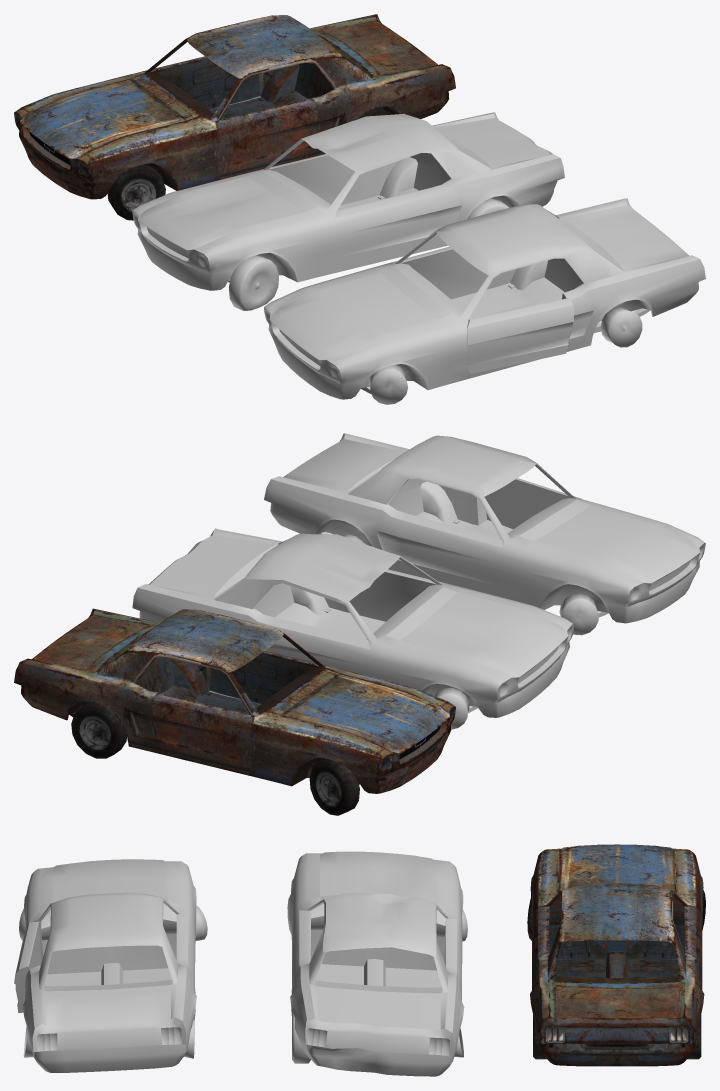
File: mustang_rusted_pack.fbx
The picture shows the model from 3 angles, top to bottom: view 1: azimuth 30°, elevation 25°; view 2: azimuth 150°, elevation 25°; view 3: azimuth 270°, elevation 25°; orthographic projection.
Parts seen in each view (by area): view 1: DP_JNK_DeadStang_3, DP_JNK_DeadStang_Blue, DP_JNK_DeadStang_Red; view 2: DP_JNK_DeadStang_Blue, DP_JNK_DeadStang_3, DP_JNK_DeadStang_Red; view 3: DP_JNK_DeadStang_Blue, DP_JNK_DeadStang_Red, DP_JNK_DeadStang_3.
Part boxes in pixels (left/top/right/bottom): DP_JNK_DeadStang_3: left=264, top=198, right=705, bottom=404; DP_JNK_DeadStang_Blue: left=14, top=14, right=455, bottom=220; DP_JNK_DeadStang_Red: left=132, top=112, right=564, bottom=310; DP_JNK_DeadStang_Blue: left=14, top=608, right=455, bottom=815; DP_JNK_DeadStang_3: left=264, top=433, right=705, bottom=635; DP_JNK_DeadStang_Red: left=132, top=528, right=573, bottom=729; DP_JNK_DeadStang_Blue: left=527, top=844, right=705, bottom=1066; DP_JNK_DeadStang_Red: left=287, top=851, right=467, bottom=1076; DP_JNK_DeadStang_3: left=14, top=859, right=207, bottom=1072.
Size of the model in its own units: 454 by 131 by 709.
